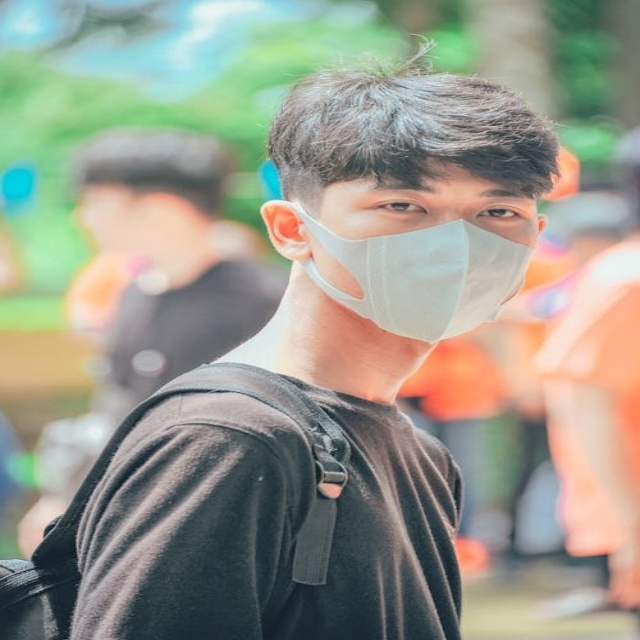Mascara: (285, 200, 534, 344)
Sin_gafas: (346, 183, 536, 227)
